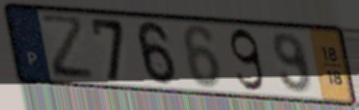6: (135, 19, 180, 89), (181, 22, 225, 92)
7: (88, 15, 127, 85)
9: (271, 30, 315, 96), (226, 27, 267, 93)
Z: (37, 13, 98, 82)
